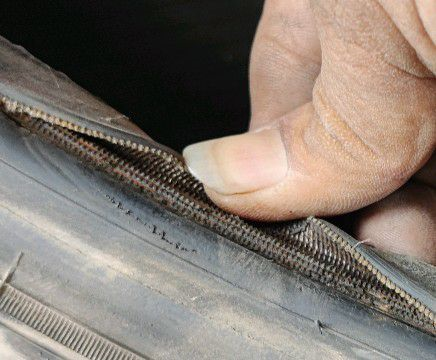bead_damage: (2, 51, 435, 343)
